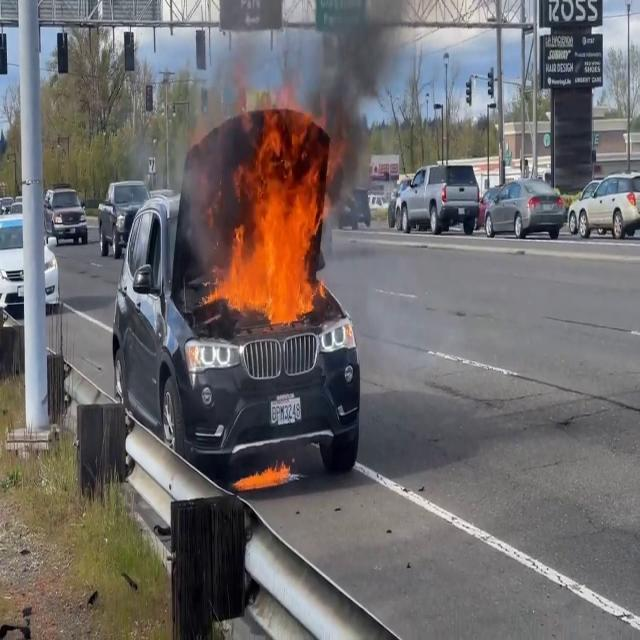Fire: (206, 112, 328, 325), (234, 456, 296, 492)
Smoke: (168, 24, 260, 276), (297, 0, 406, 185)
